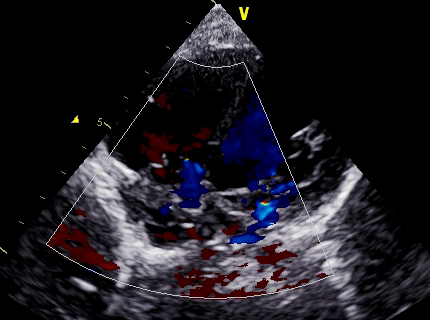TR: (159, 158, 219, 225)
